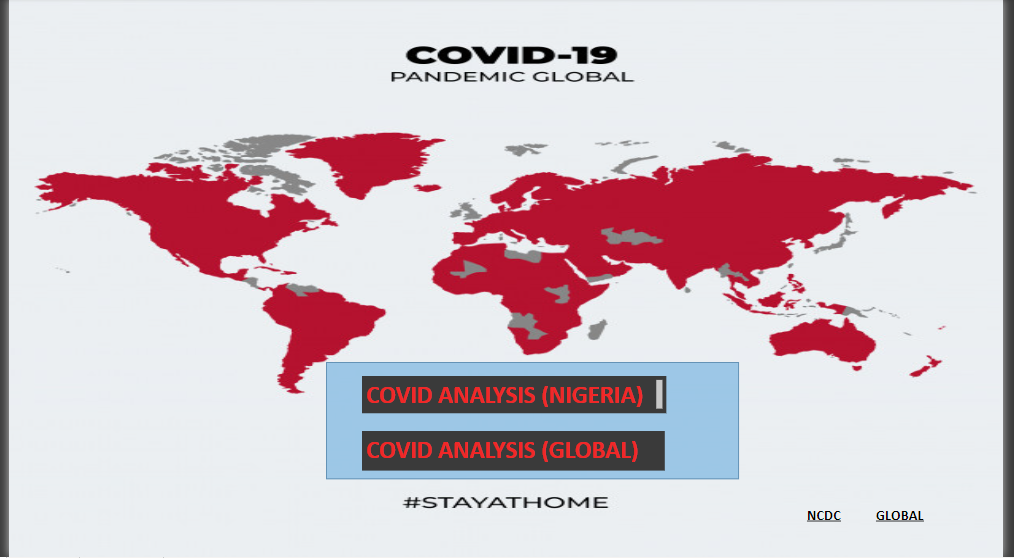

Layout of this report page (visuals, bound fields, positions):
{"tool":"powerbi","page":{"name":"Home","canvas":[1280,720],"ordinal":0},"visuals":[{"type":"shape","box":[408.8,468.2,531.9,151.4],"z":0},{"type":"textbox","box":[454.1,486.6,391.8,48.1],"z":1000},{"type":"textbox","box":[454.1,557.3,390.4,50.9],"z":2000},{"type":"textbox","box":[1022.7,649.3,69.3,39.6],"z":3000},{"type":"actionButton","box":[1011.4,642.2,93.4,52.3],"z":4000},{"type":"textbox","box":[1111.8,649.3,80.6,32.5],"z":5000},{"type":"actionButton","box":[1100.5,642.2,100.4,46.7],"z":6000}]}

Visuals, with their boxes in screenshot pixels (x1, y1, x2, y2), scaled from the page's 1280x720 canvas onto the 1014x558 screenshot:
shape: 324:363:745:480
textbox: 360:377:670:414
textbox: 360:432:669:471
textbox: 810:503:865:534
actionButton: 801:498:875:538
textbox: 881:503:945:528
actionButton: 872:498:951:534
